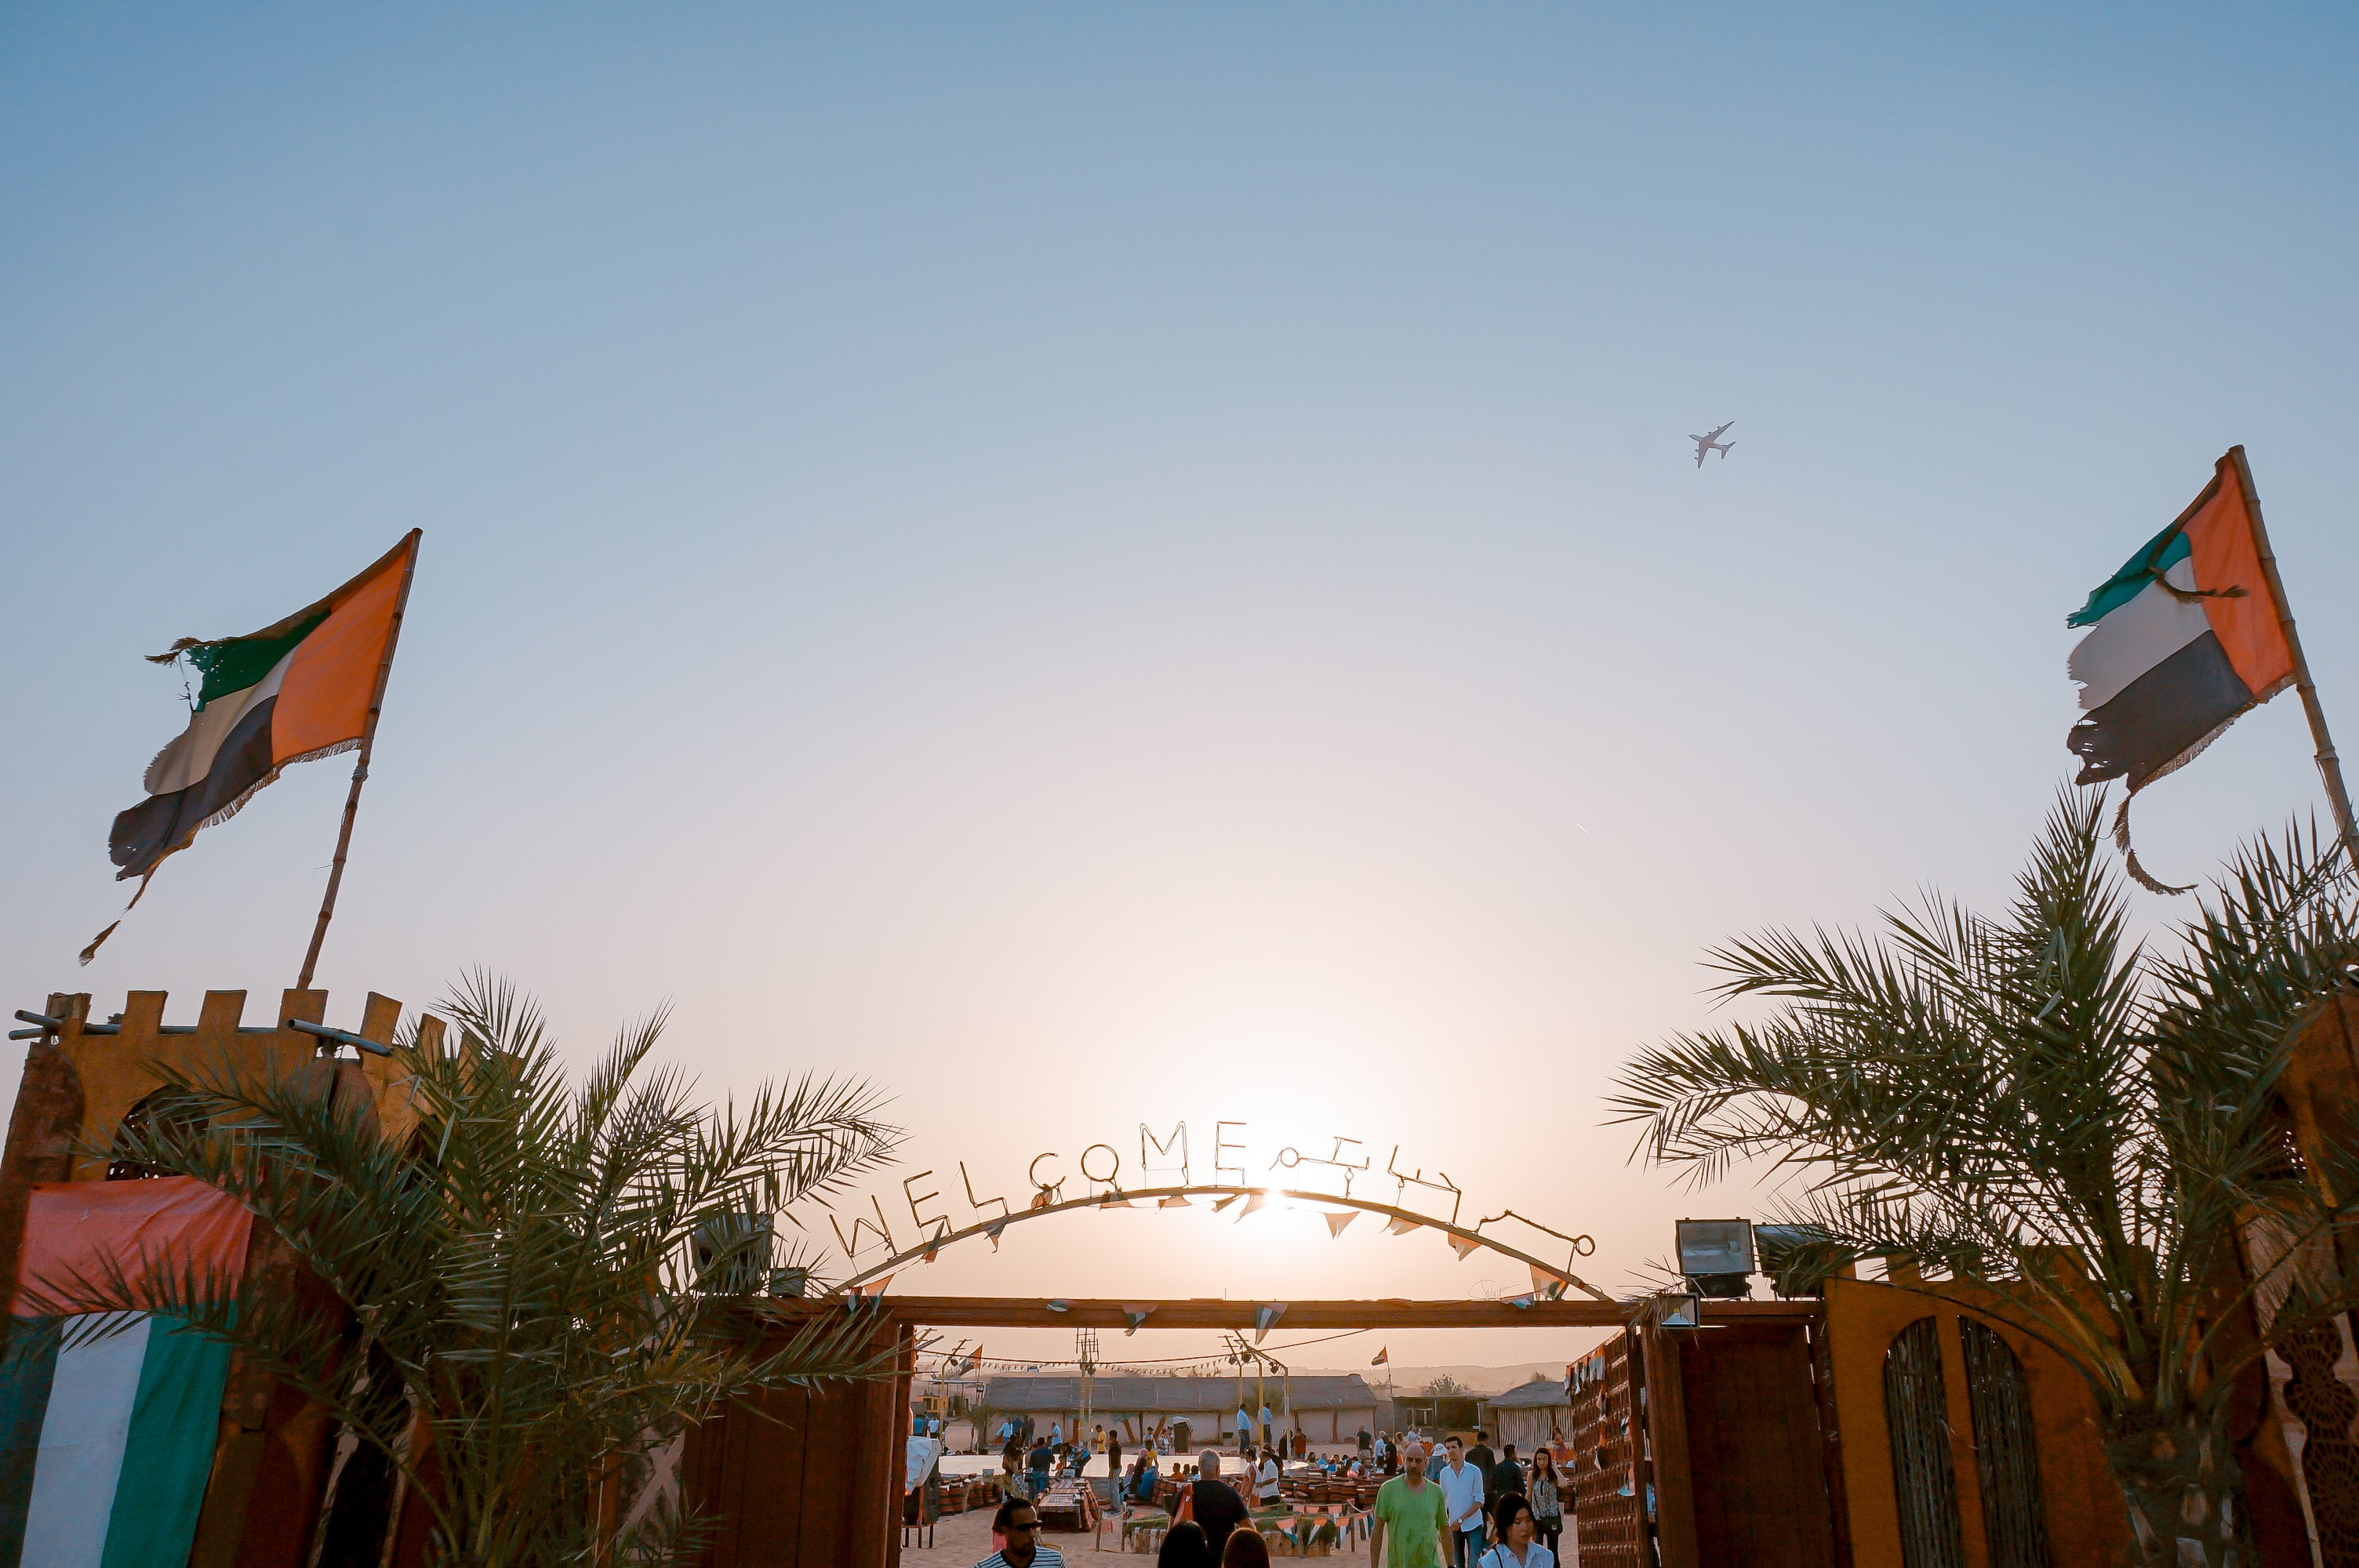Flag: (108, 525, 408, 886), (2072, 451, 2315, 812)
